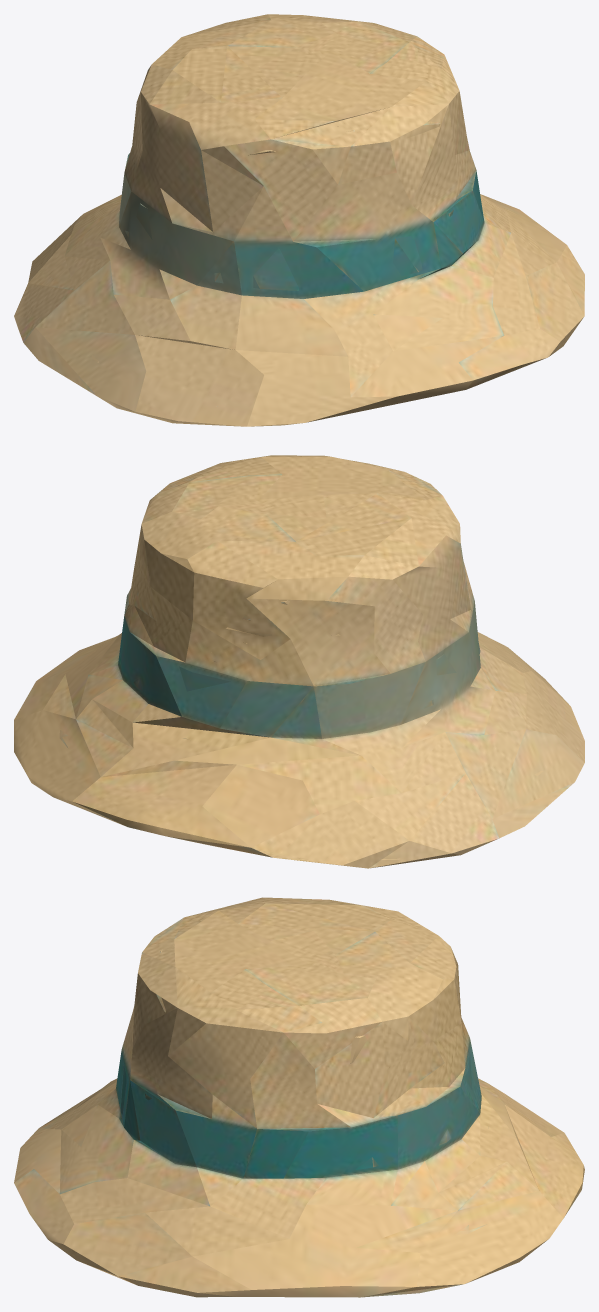
The model's file is bucket-hat.glb.
3 renders of one model, top to bottom at view 1: azimuth 30°, elevation 25°; view 2: azimuth 150°, elevation 25°; view 3: azimuth 270°, elevation 25°, orthographic.
Size of the model in its own units: 1.86 by 0.9299 by 1.88.
1 material, 1 textured.
